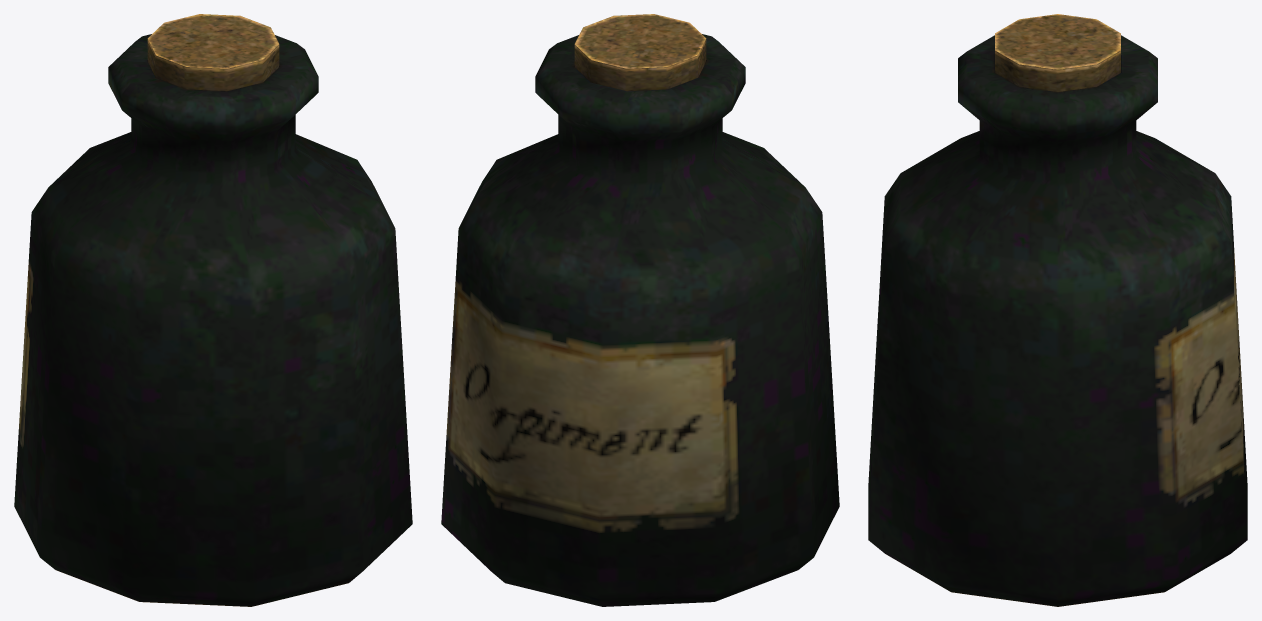
File: flask01_orpiment.dae
3 views of the same model, side by side, from view 1: azimuth 30°, elevation 25°; view 2: azimuth 150°, elevation 25°; view 3: azimuth 270°, elevation 25° (orthographic).
Parts seen in each view (by area): view 1: Flask01; view 2: Flask01; view 3: Flask01.
Boxes of the visible parts, x1,y1,x2,y2 form: Flask01: (14,14,412,606); Flask01: (441,14,839,606); Flask01: (868,14,1247,606).
Bounding box in the file's own units: 0.2222 × 0.2113 × 0.3.
